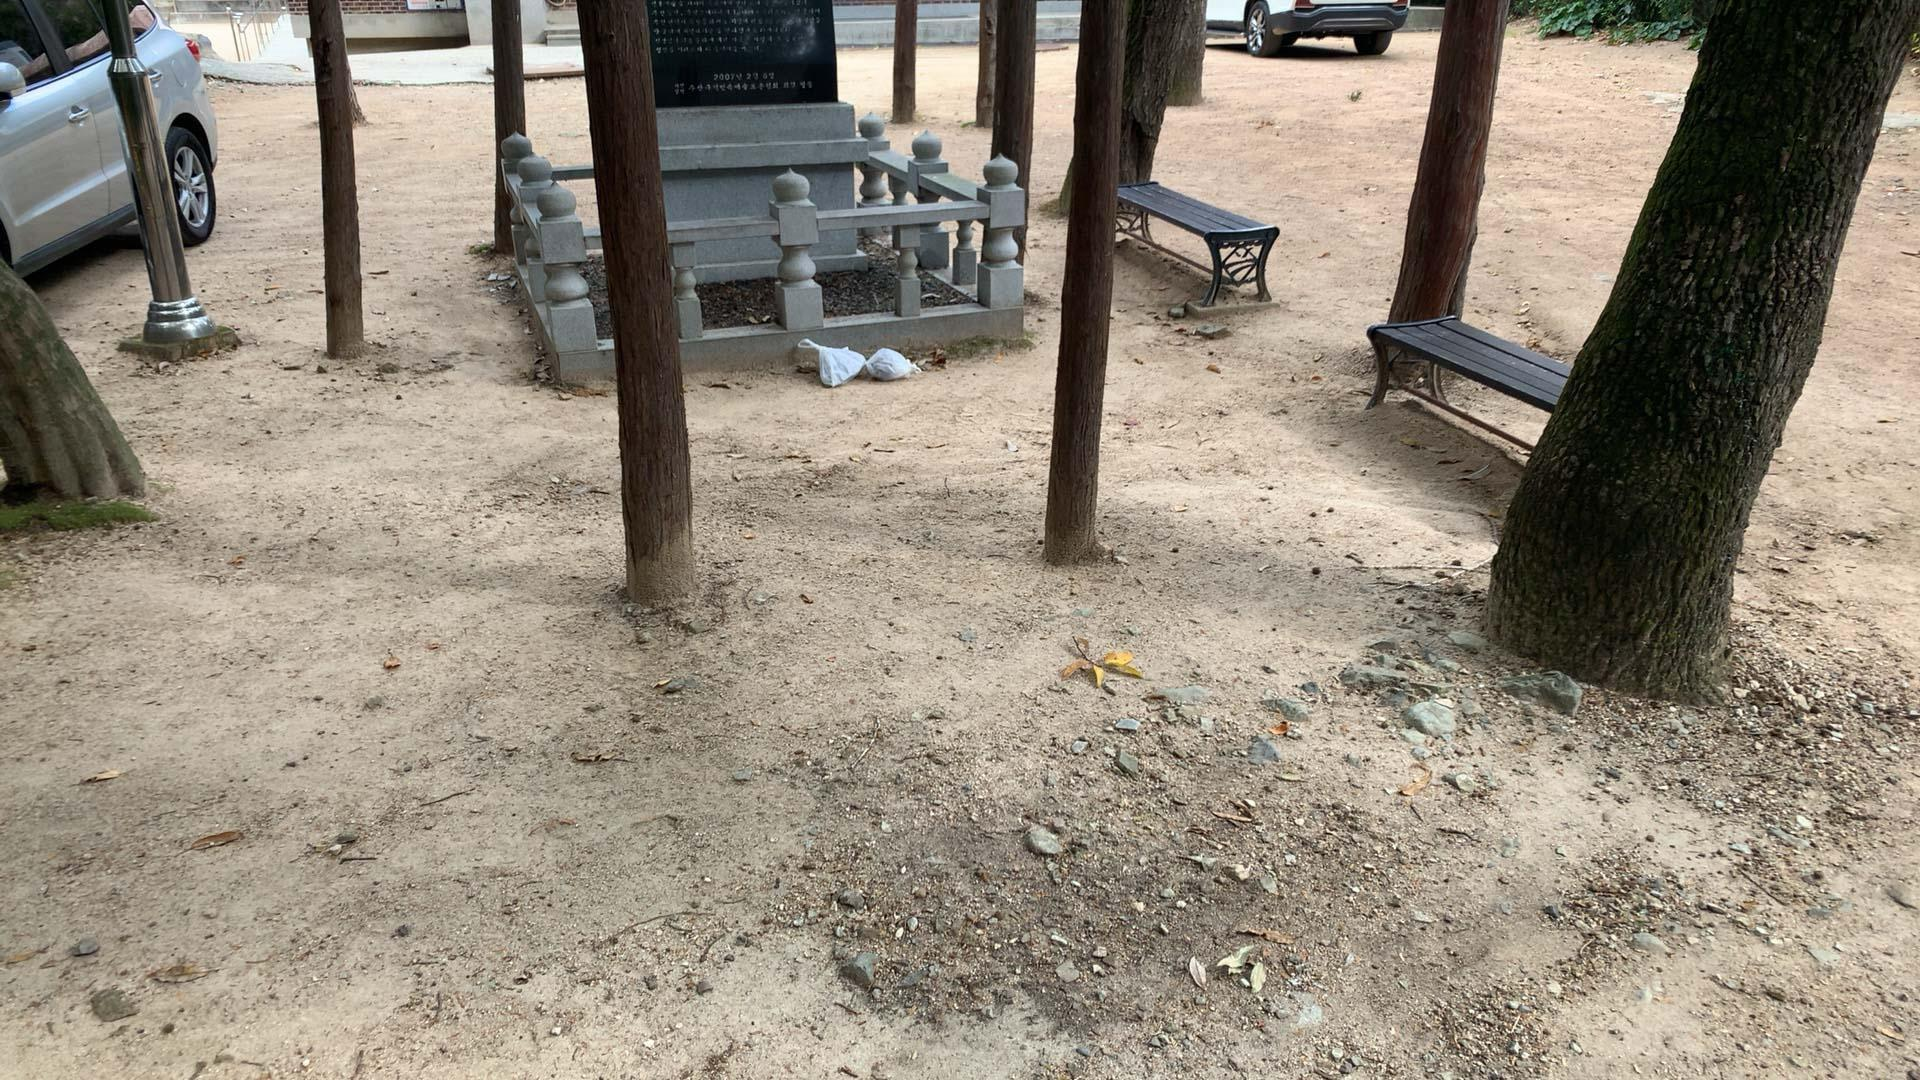white_bag: (794, 334, 866, 389), (862, 345, 922, 382)
